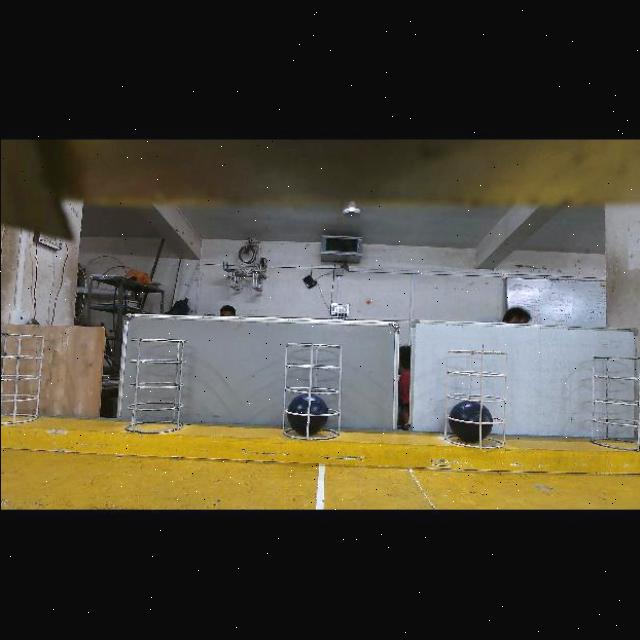P: (448, 400, 492, 440), (287, 393, 327, 432)
S: (432, 348, 508, 452), (120, 336, 186, 440), (280, 340, 342, 438), (586, 348, 640, 456), (0, 331, 50, 421)
